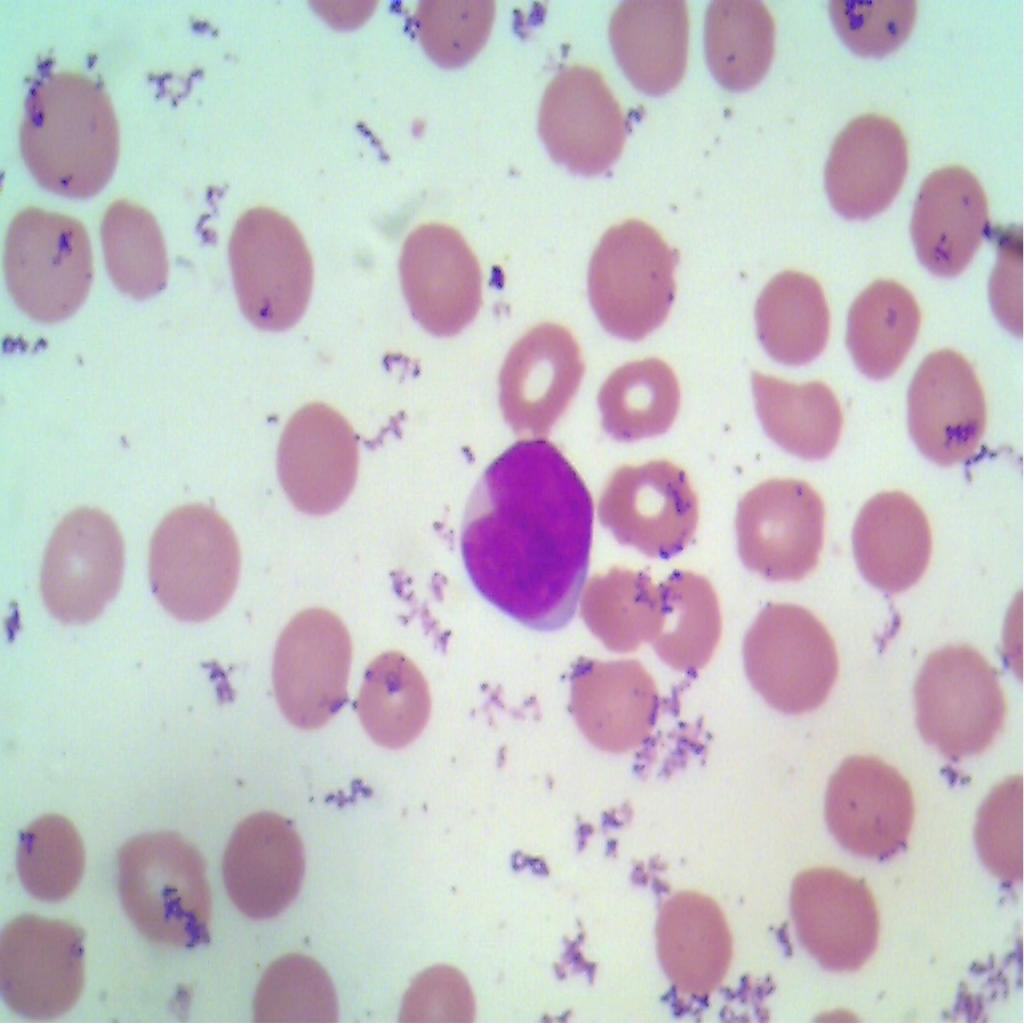Eritrosit: (10, 58, 124, 204), (142, 494, 244, 633), (898, 341, 1001, 478), (28, 501, 133, 635), (741, 592, 846, 721), (523, 51, 626, 180), (586, 215, 683, 348), (819, 745, 922, 867), (726, 474, 836, 588), (556, 644, 663, 758), (228, 204, 316, 341), (274, 397, 368, 525), (596, 448, 703, 558), (0, 207, 95, 325), (264, 605, 350, 735), (118, 829, 210, 950), (788, 861, 879, 983), (348, 649, 451, 755), (916, 639, 1004, 760), (906, 154, 989, 282), (396, 218, 482, 340), (494, 315, 582, 434), (816, 114, 911, 224), (224, 804, 306, 922), (753, 361, 848, 462), (848, 484, 931, 598), (589, 348, 683, 448), (0, 909, 88, 1015), (601, 0, 692, 101), (653, 884, 738, 992), (642, 565, 726, 674), (99, 191, 175, 308), (13, 805, 93, 912), (748, 268, 833, 368), (574, 554, 660, 652), (848, 277, 918, 394), (696, 0, 782, 95)
Limfoblast: (448, 438, 596, 632)
Platelet: (481, 248, 510, 298)
